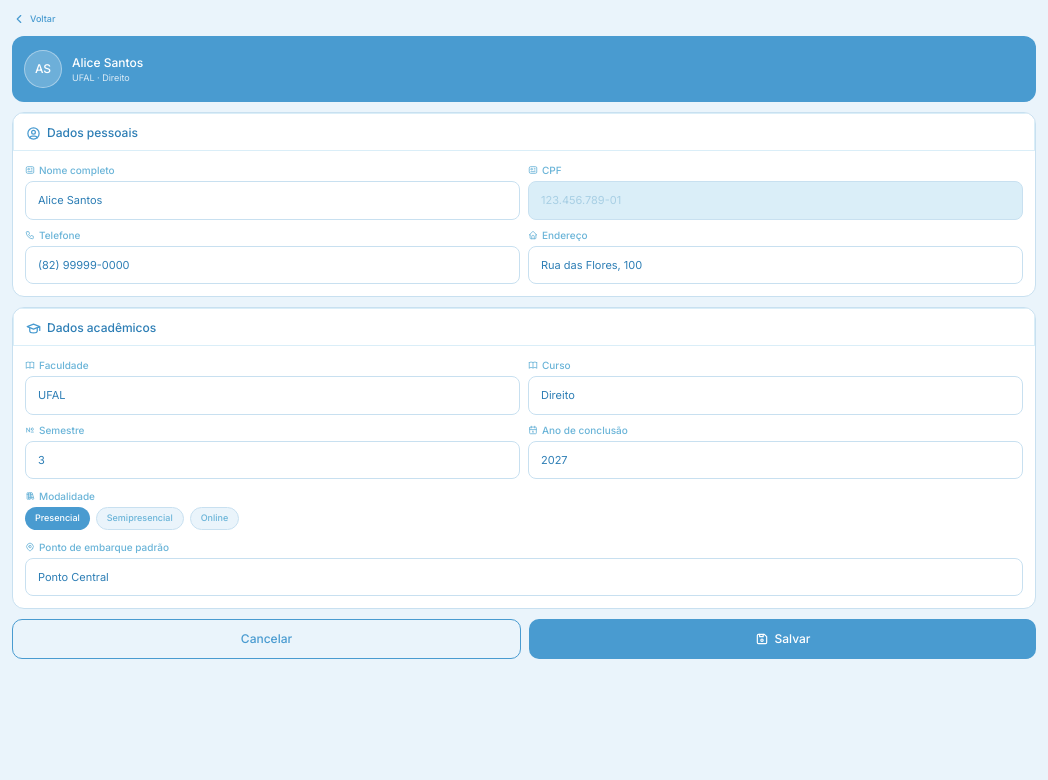
Scenario: EdicaoAlunoPage — ponto de embarque › banner de aviso aparece ao alterar o ponto
The image size is (1048, 780).
Replace the text in the field showing "Ponto Central" below "Ponto de embarque padrão" with "Ponto Norte" at (524, 577), box [25,558,1023,596]
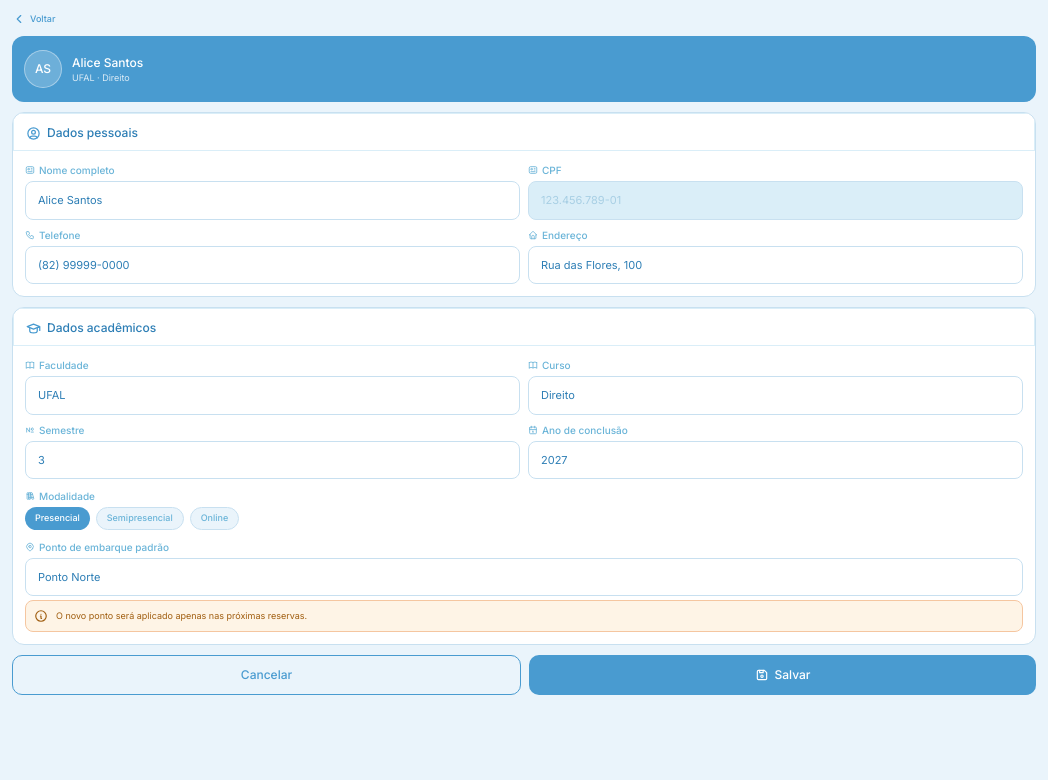
Check: the text "O novo ponto será aplicado apenas nas próximas reservas." is shown, box [56,610,307,622]
